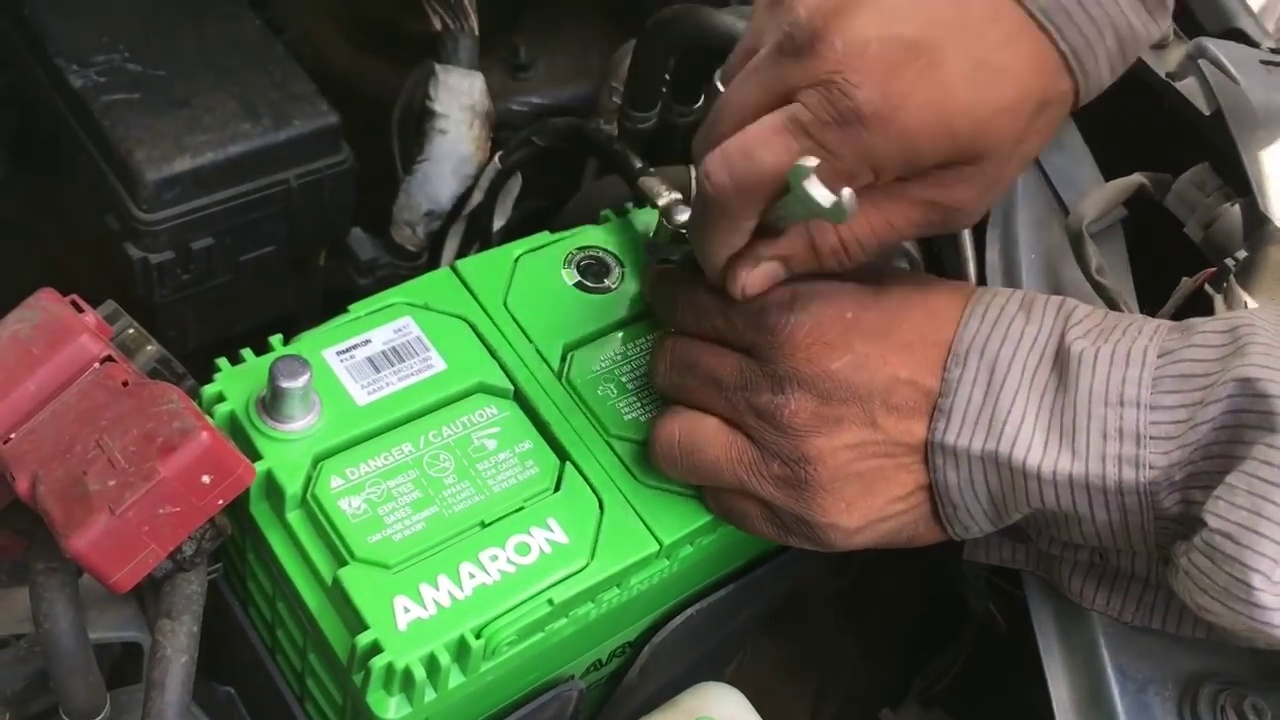battery: (176, 190, 839, 669)
neg_connected: (582, 120, 717, 296)
neg_touched: (619, 141, 851, 426)
pos_disconnected: (67, 297, 343, 507)
